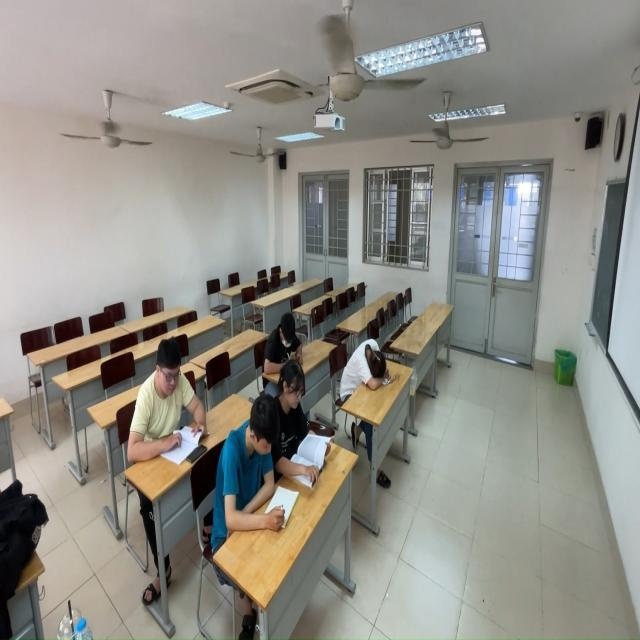sleep: (338, 340, 391, 397), (264, 315, 302, 375)
study: (214, 395, 287, 534), (128, 339, 208, 462), (269, 361, 325, 485)
